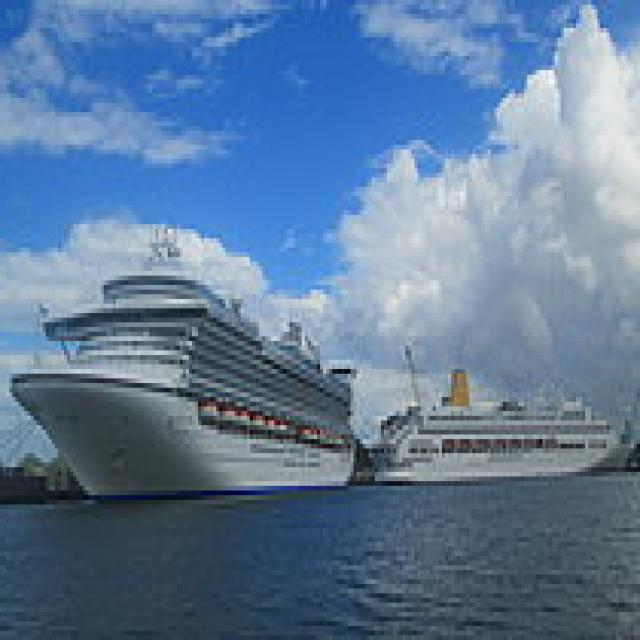Cruise: (9, 215, 366, 500), (366, 341, 628, 486)
